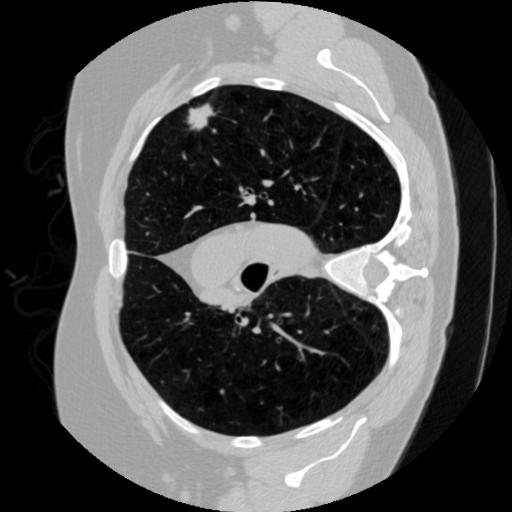nodule: (184, 101, 217, 134)
